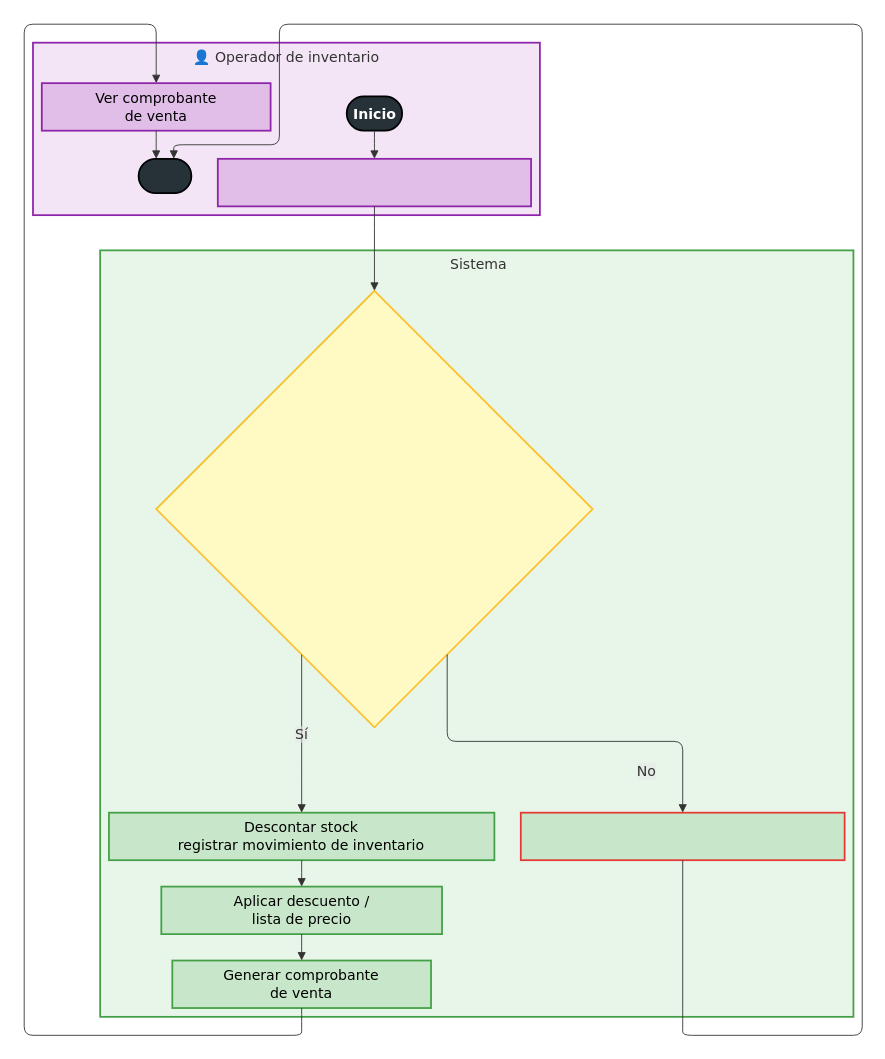
Image size: 885x1059. Some labels were removed from this diagram. The shapes that lost their labels are listed below. From the top down, each one's centre as x and y in pixels, then its label:
[164,176]: Fin
[374,182]: Seleccionar producto, cantidad y precio
[374,509]: ¿Stock disponible >= cantidad solicitada?
[682,836]: Rechazar venta mostrar mensaje de error
